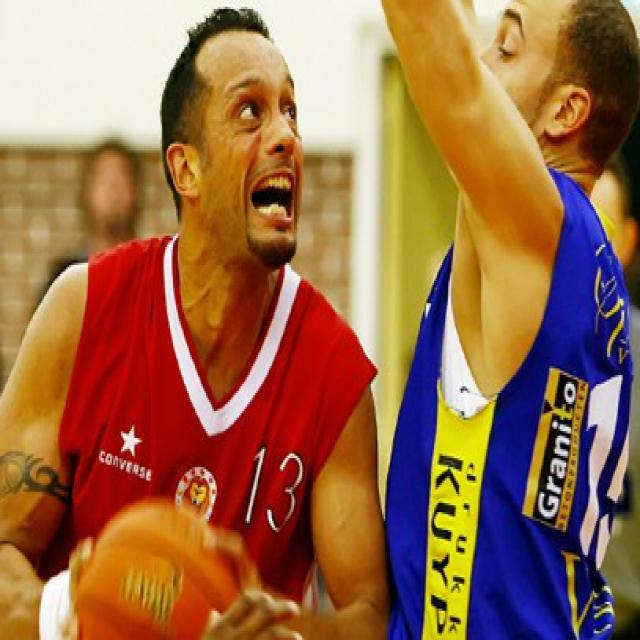basketball: (69, 496, 244, 636)
